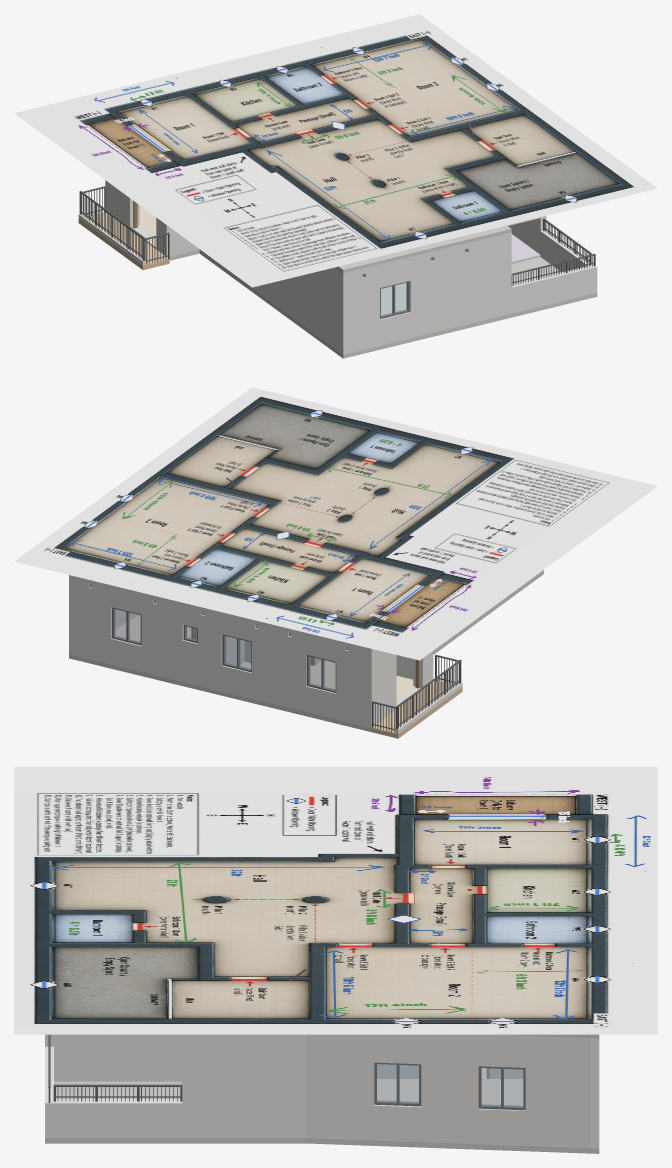
Rendered from MyFlat_V1_Architecture.glb.
The picture shows the model from 3 angles, top to bottom: view 1: azimuth 30°, elevation 25°; view 2: azimuth 150°, elevation 25°; view 3: azimuth 270°, elevation 25°; orthographic projection. The views are drawn at different scales.
Visible parts, largest first — view 1: PLAN_REFERENCE_OVERLAY, WALL_EXT_S_HALL, WALL_EXT_W_HALL, SLAB_FLOOR_STRUCTURAL, PARAPET_OPENSQ_S, BALCONY_RAILING_W, BALCONY_FLOOR, SLAB_ROOF, WALL_EXT_W_R1_BALCONY, PARAPET_OPENSQ_E, RAILING_OPENSQ_S, WALL_EXT_E_STAIR (+5 smaller); view 2: PLAN_REFERENCE_OVERLAY, WALL_EXT_N_R1, WALL_EXT_N_R2, WALL_EXT_N_KIT, WALL_EXT_N_B2, WALL_EXT_W_R1_BALCONY, SLAB_FLOOR_STRUCTURAL, BALCONY_RAILING_W, BALCONY_FLOOR, FLOOR_R1, WINDOW_W1_GLASS, WALL_EXT_E_R2_TAPERED (+2 smaller); view 3: PLAN_REFERENCE_OVERLAY, WALL_EXT_E_R2_TAPERED, WALL_EXT_E_STAIR, WALL_INT_OPENSQ_W, PARAPET_OPENSQ_E, SLAB_FLOOR_STRUCTURAL, FLOOR_R2, WINDOW_W5_GLASS, WINDOW_W6_GLASS, FLOOR_OPENSQ, RAILING_OPENSQ_E, WALL_EXT_N_R2 (+4 smaller).
Part boxes in pixels (bbox=[...]): PLAN_REFERENCE_OVERLAY: bbox=[14, 14, 657, 287]; WALL_EXT_S_HALL: bbox=[340, 232, 511, 354]; WALL_EXT_W_HALL: bbox=[200, 249, 348, 354]; SLAB_FLOOR_STRUCTURAL: bbox=[167, 249, 597, 358]; PARAPET_OPENSQ_S: bbox=[511, 264, 597, 313]; BALCONY_RAILING_W: bbox=[79, 191, 144, 260]; BALCONY_FLOOR: bbox=[78, 212, 169, 269]; SLAB_ROOF: bbox=[335, 225, 511, 273]; WALL_EXT_W_R1_BALCONY: bbox=[108, 183, 176, 257]; PARAPET_OPENSQ_E: bbox=[540, 230, 593, 272]; RAILING_OPENSQ_S: bbox=[511, 253, 595, 286]; WALL_EXT_E_STAIR: bbox=[508, 216, 546, 254]; PLAN_REFERENCE_OVERLAY: bbox=[14, 387, 657, 660]; WALL_EXT_N_R1: bbox=[265, 623, 374, 727]; WALL_EXT_N_R2: bbox=[69, 575, 171, 679]; WALL_EXT_N_KIT: bbox=[208, 609, 264, 701]; WALL_EXT_N_B2: bbox=[172, 600, 208, 688]; WALL_EXT_W_R1_BALCONY: bbox=[362, 647, 433, 727]; SLAB_FLOOR_STRUCTURAL: bbox=[69, 570, 543, 731]; BALCONY_RAILING_W: bbox=[396, 659, 461, 729]; BALCONY_FLOOR: bbox=[371, 681, 462, 738]; FLOOR_R1: bbox=[310, 660, 413, 697]; WINDOW_W1_GLASS: bbox=[309, 656, 335, 689]; WALL_EXT_E_R2_TAPERED: bbox=[69, 575, 138, 655]; PLAN_REFERENCE_OVERLAY: bbox=[14, 767, 657, 1034]; WALL_EXT_E_R2_TAPERED: bbox=[306, 1034, 590, 1148]; WALL_EXT_E_STAIR: bbox=[182, 1034, 305, 1137]; WALL_INT_OPENSQ_W: bbox=[54, 1034, 182, 1081]; PARAPET_OPENSQ_E: bbox=[54, 1099, 182, 1137]; SLAB_FLOOR_STRUCTURAL: bbox=[45, 1081, 599, 1153]; FLOOR_R2: bbox=[377, 1079, 523, 1105]; WINDOW_W5_GLASS: bbox=[481, 1068, 523, 1106]; WINDOW_W6_GLASS: bbox=[377, 1064, 418, 1103]; FLOOR_OPENSQ: bbox=[54, 1081, 182, 1099]; RAILING_OPENSQ_E: bbox=[53, 1084, 182, 1101]; WALL_EXT_N_R2: bbox=[590, 1038, 599, 1148].
Size of what is drawn, in the model's own units: 16.28 by 4.33 by 16.55.
Materials: 22 (1 with a texture image).
